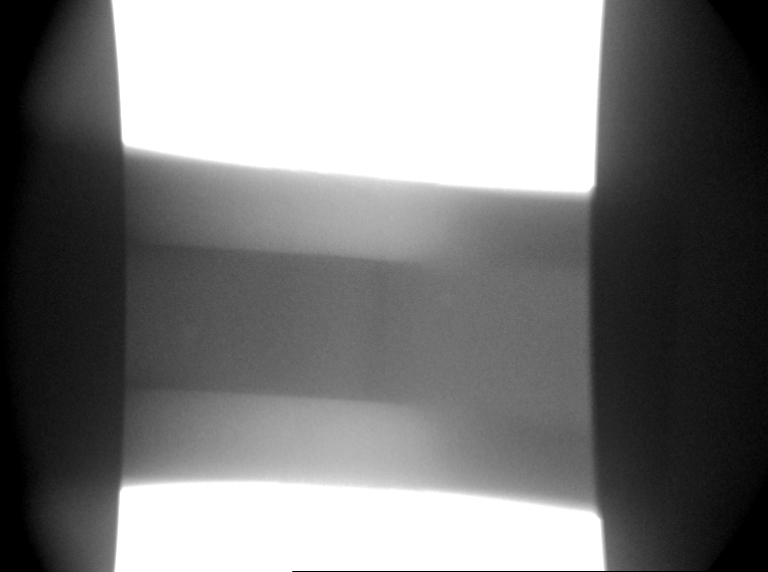defect: (180, 317, 206, 349)
